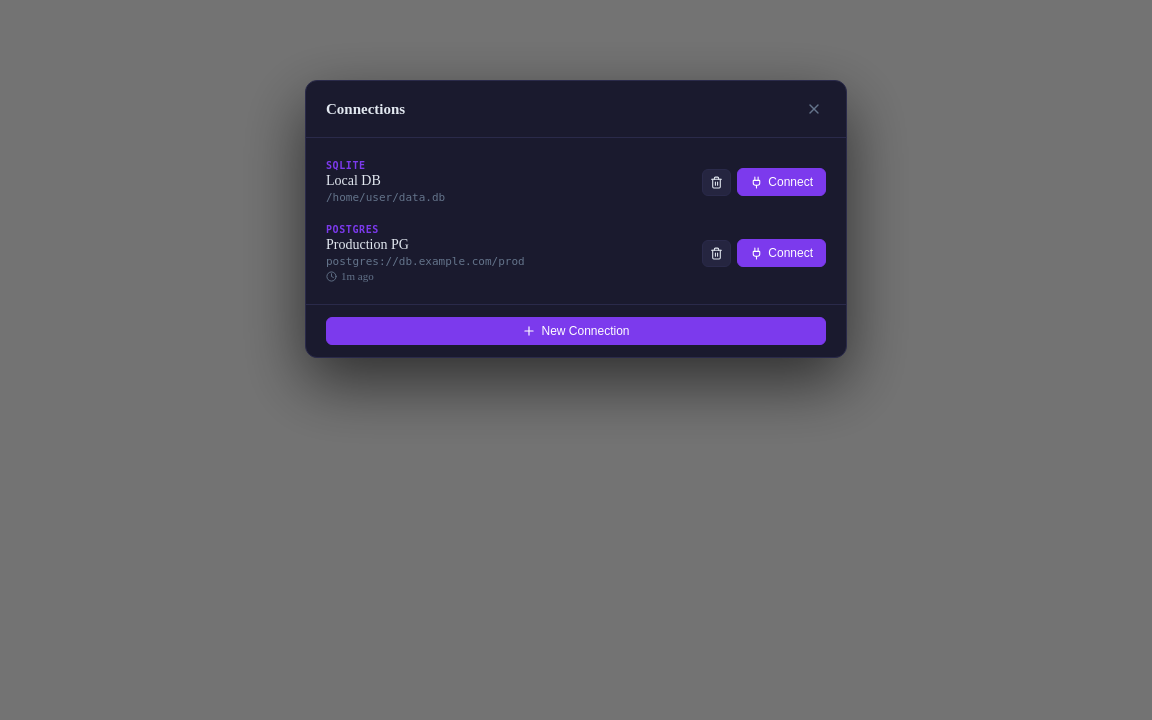
Test: ConnectionManager › cancels delete when No is clicked
This screenshot has width=1152, height=720.
Expected: the text "Local DB" is shown, [326, 173, 381, 188]
Step 1. Click the button titled "delete" in the row of "sqlite" → [717, 182], box [702, 168, 731, 196]
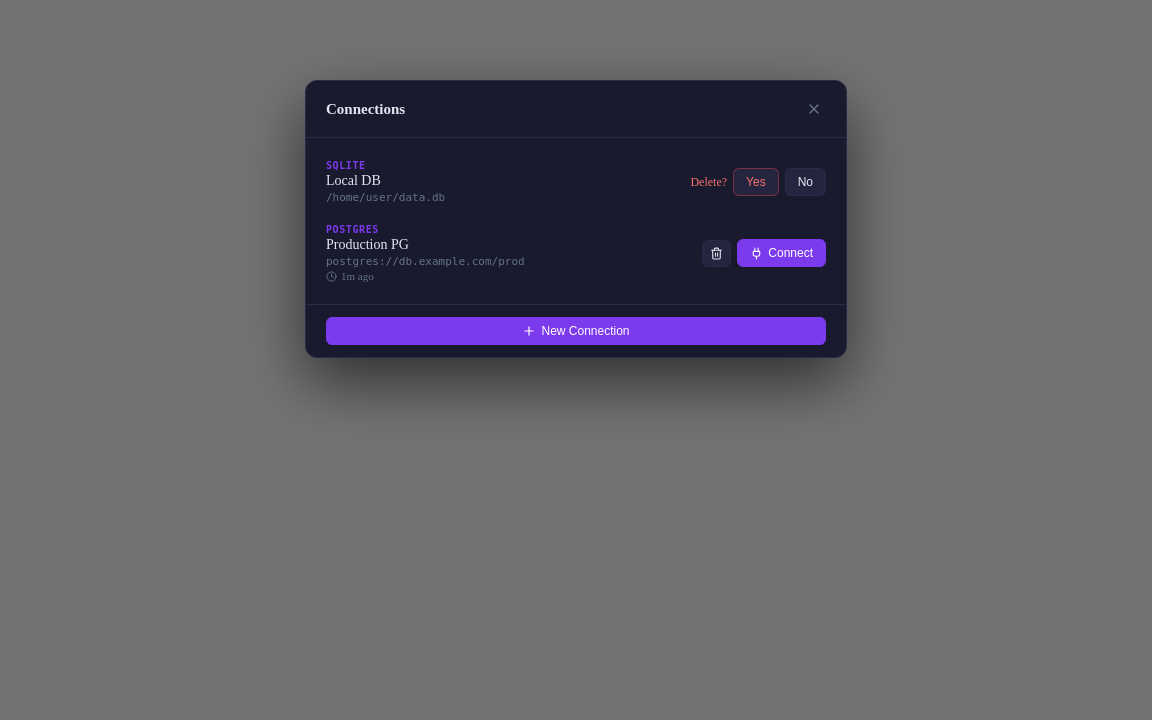
Result: the text "Delete?" is shown at [690, 174, 727, 190]
Step 2. Click the button "No" → [805, 182], box [785, 168, 826, 196]
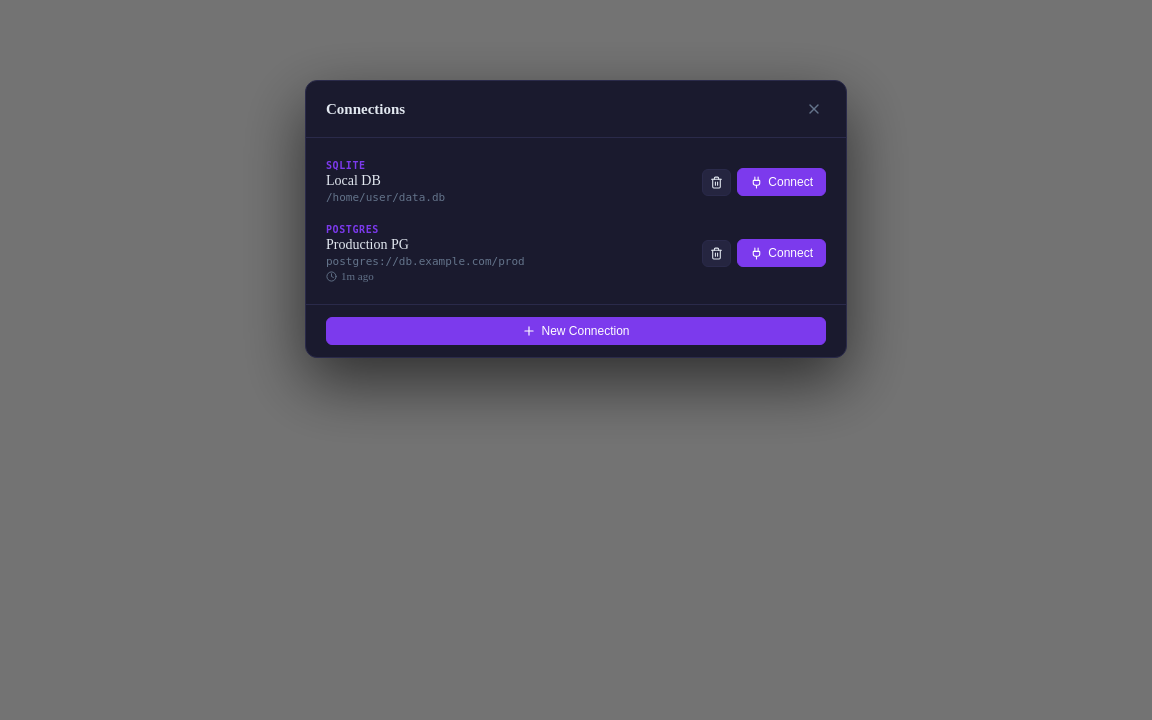
Result: the text "Delete?" is gone
